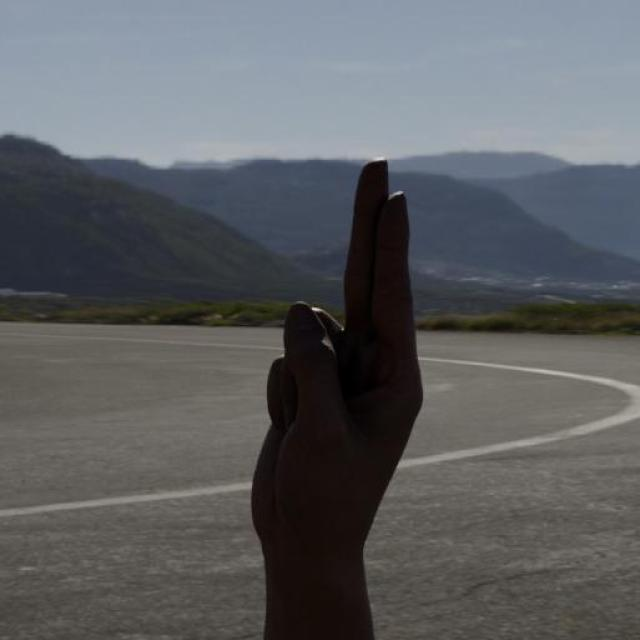U: (241, 156, 428, 564)
